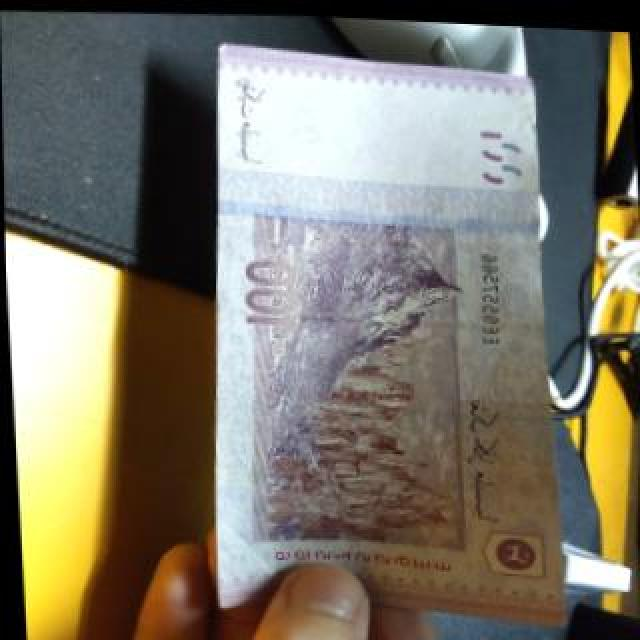100 Ringgit: (188, 22, 560, 640)
